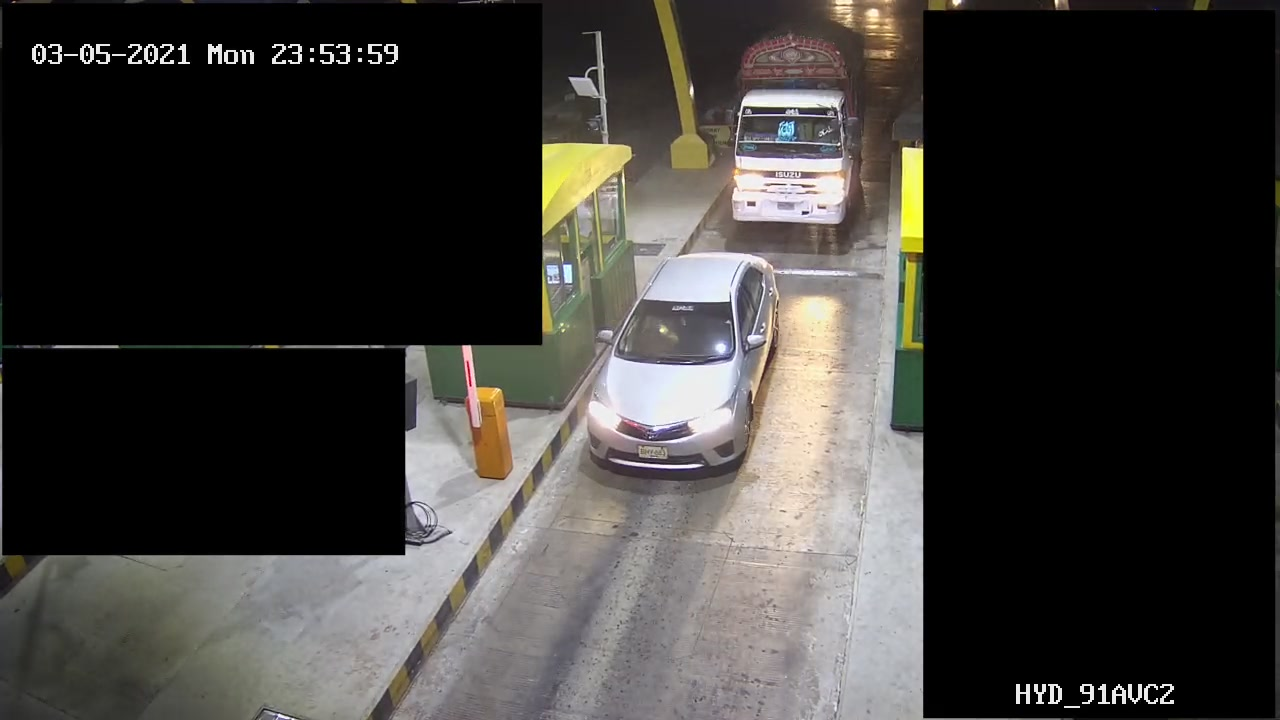F1: (582, 242, 790, 488)
